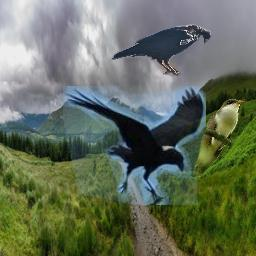Crow: (63, 86, 206, 205), (110, 24, 211, 76)
Cuckoo: (192, 98, 247, 179)
